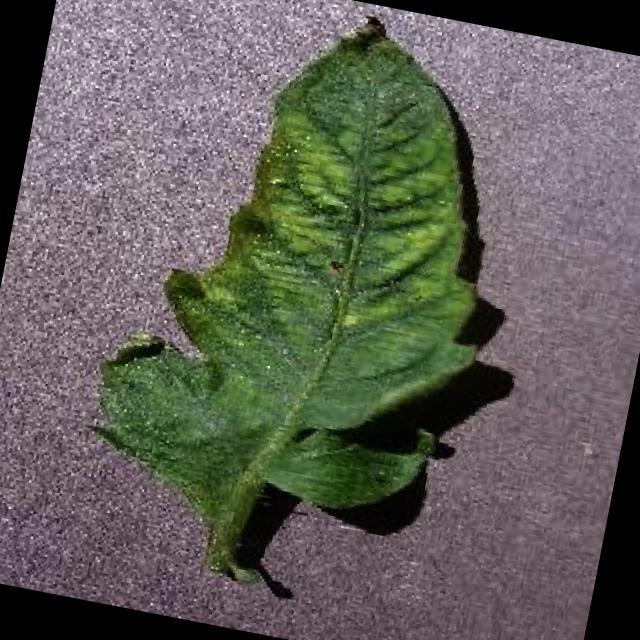Tomato mosaic virus leaf: (68, 0, 541, 567)
